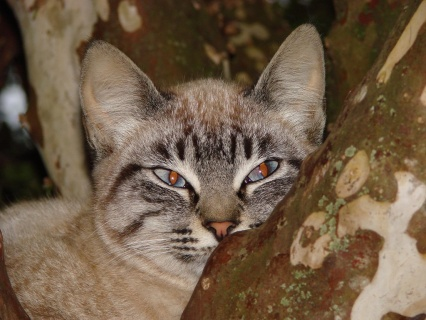Cat: (0, 21, 325, 319)
